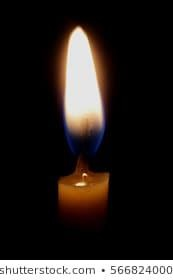fire: (60, 24, 106, 159)
